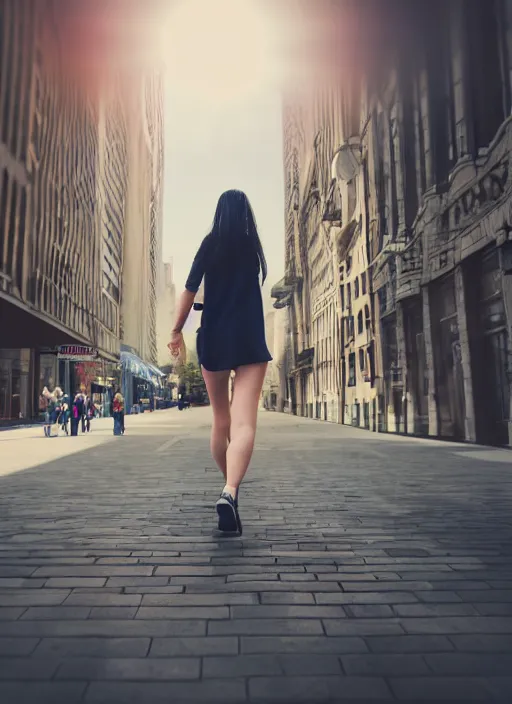person: (164, 181, 290, 540)
